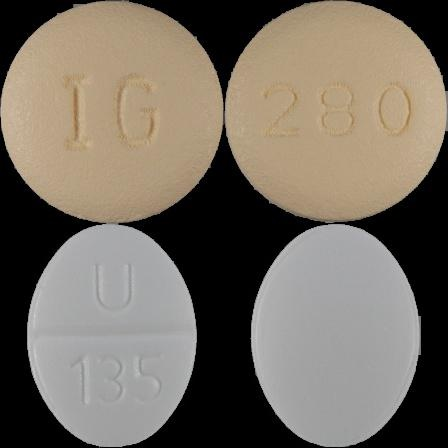61919-691: (0, 0, 224, 224)
